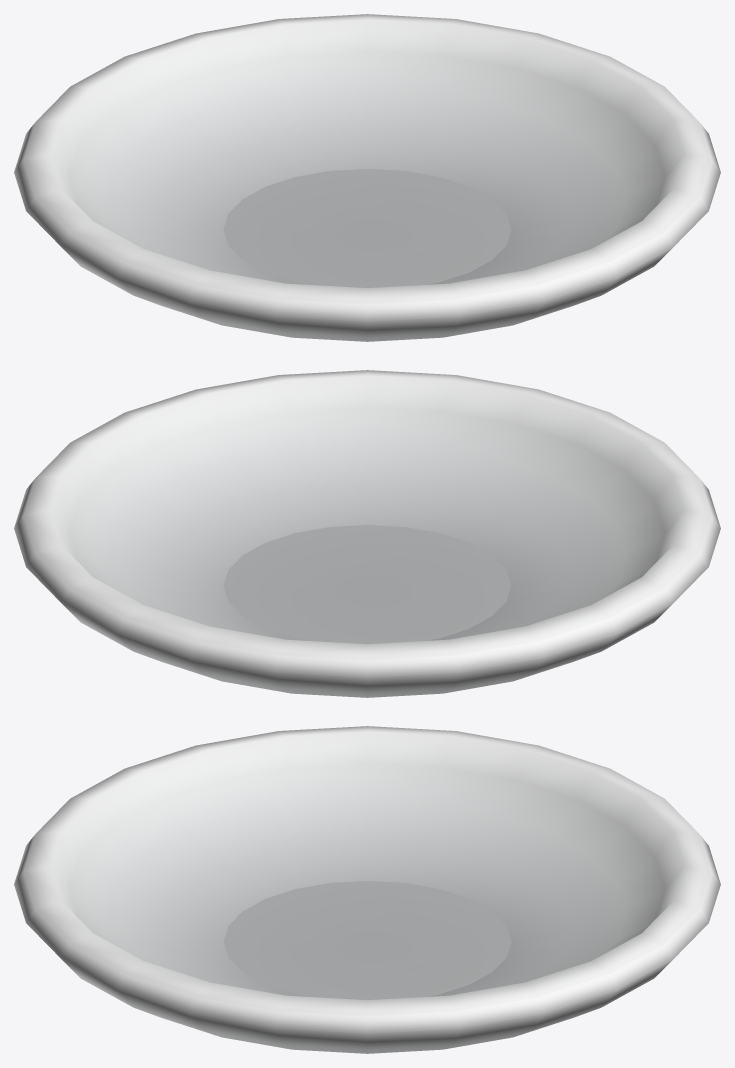
Rendered from saucer_002.fbx.
The picture shows the model from 3 angles, top to bottom: view 1: azimuth 30°, elevation 25°; view 2: azimuth 150°, elevation 25°; view 3: azimuth 270°, elevation 25°; orthographic projection.
Visible parts, largest first — view 1: saucer_002; view 2: saucer_002; view 3: saucer_002.
Boxes of the visible parts, left/top/right/bottom form: saucer_002: left=14, top=14, right=720, bottom=341; saucer_002: left=14, top=370, right=720, bottom=697; saucer_002: left=14, top=726, right=720, bottom=1053.
Bounding box in the file's own units: 12.99 × 12.99 × 2.04.
